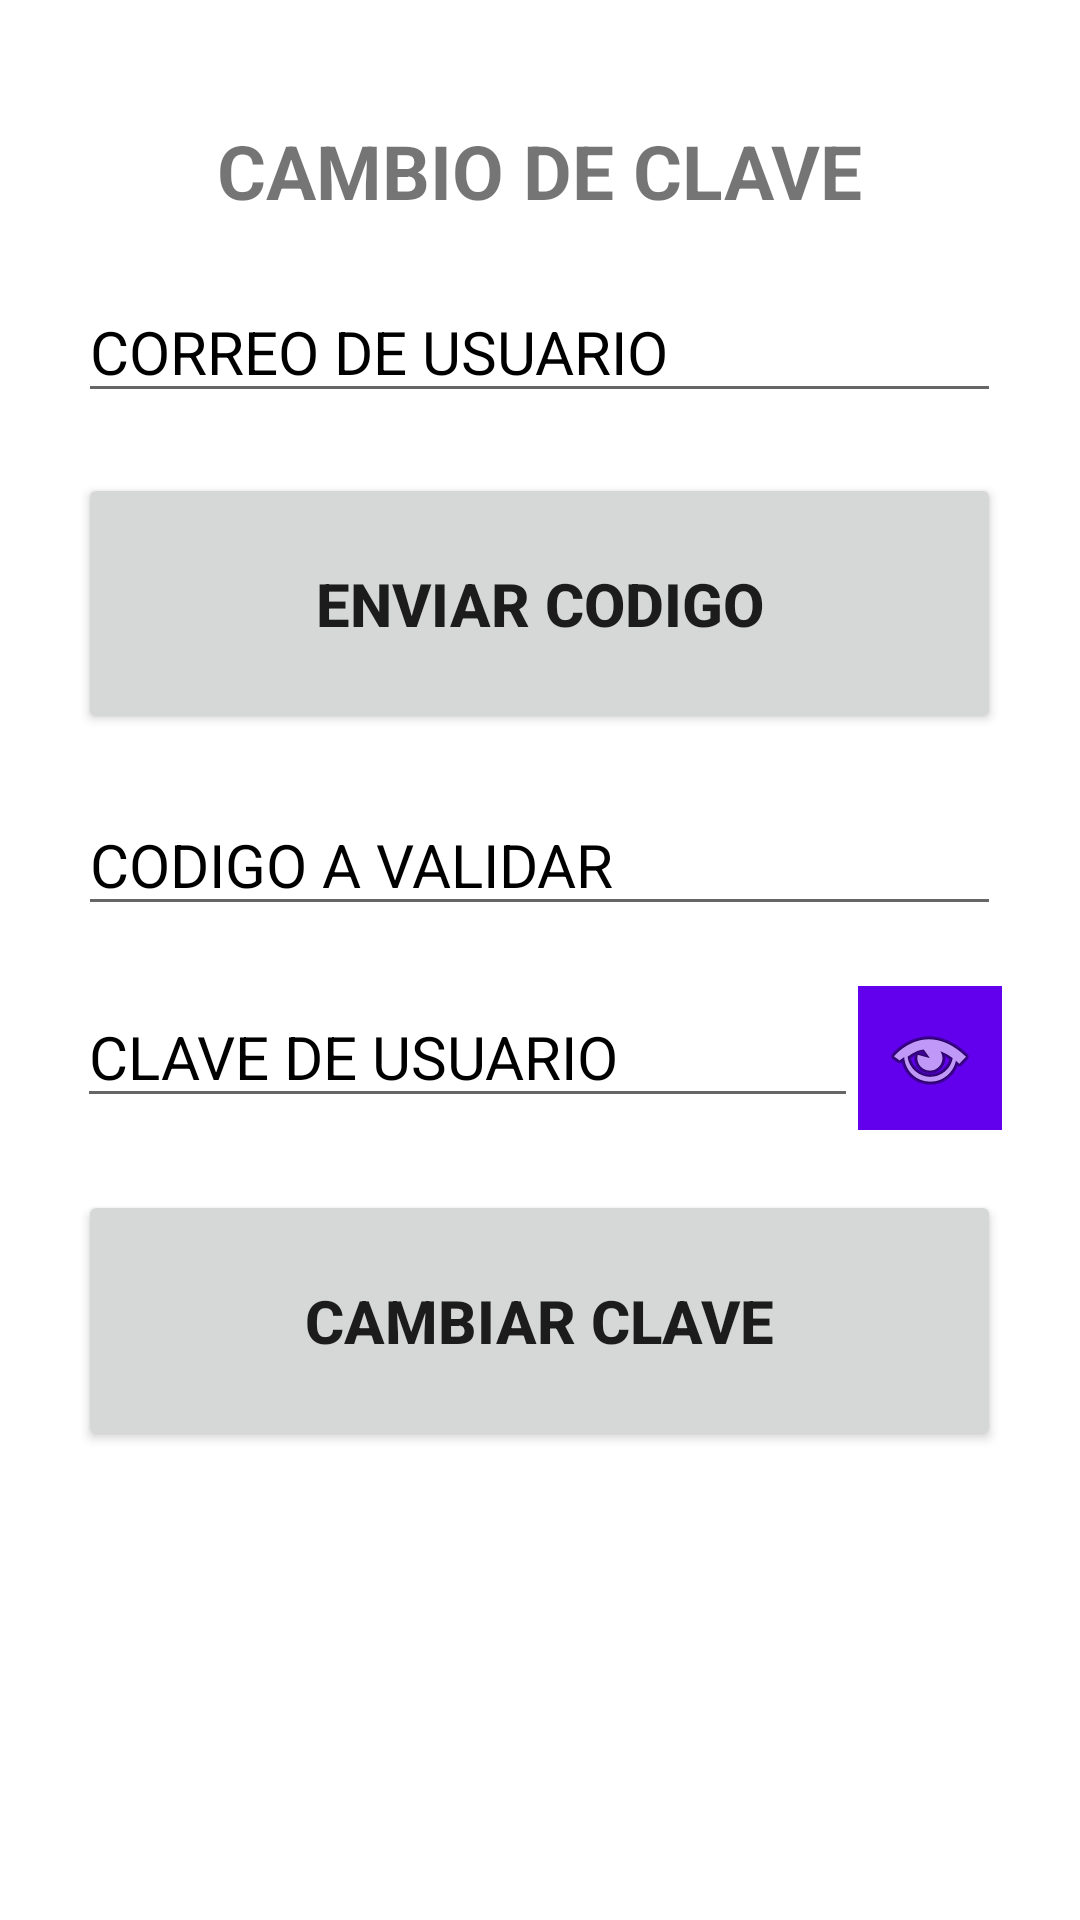

Named icons in this screenshot (1080 × 1920) and their bounding boxes, (x1, y1, x2, y2):
VER CLAVE: (858, 986, 1002, 1130)
